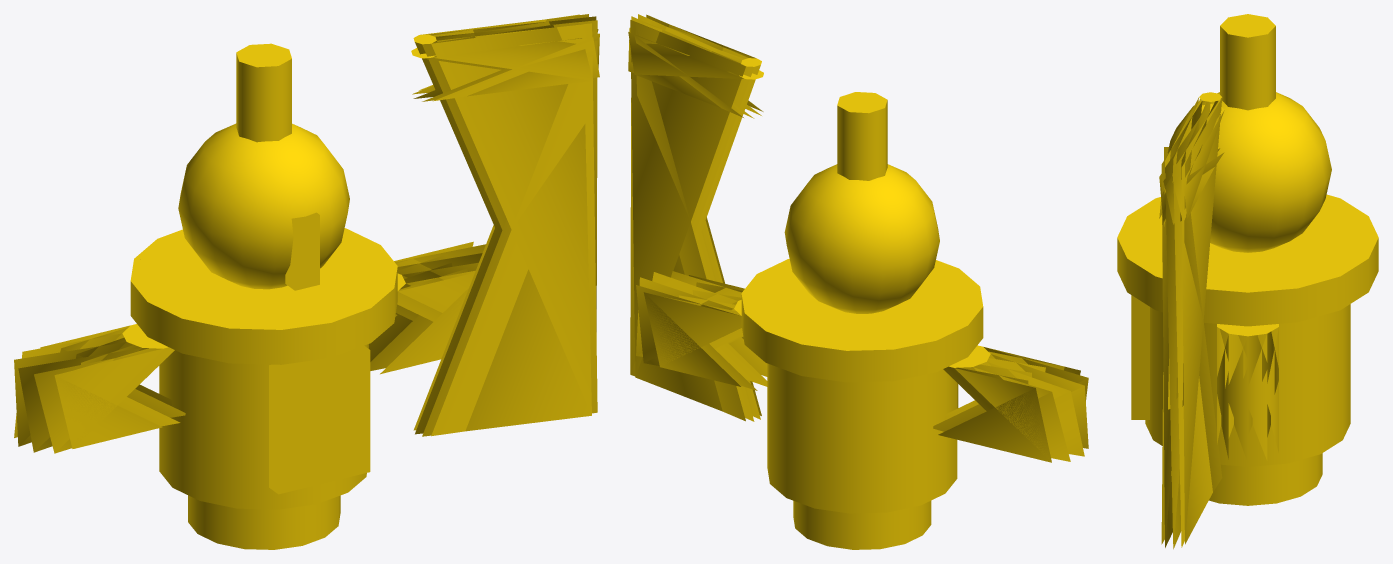
The model's file is french_red_knight.obj.
3 renders of one model, left to right at view 1: azimuth 30°, elevation 25°; view 2: azimuth 150°, elevation 25°; view 3: azimuth 270°, elevation 25°, orthographic. The views are drawn at different scales.
Parts seen in each view (by area): view 1: french_red_knight; view 2: french_red_knight; view 3: french_red_knight.
Part boxes in pixels (<box>): french_red_knight: <box>14,14,599,549</box>; french_red_knight: <box>628,14,1088,549</box>; french_red_knight: <box>1117,14,1378,549</box>.
Bounding box in the file's own units: 1.3 × 1.06 × 0.56.
1 material, 1 textured.
